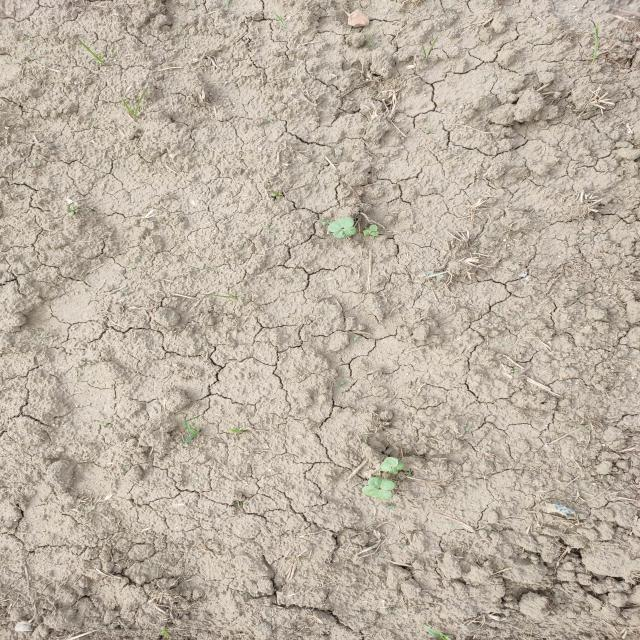seedling_s2: (362, 485, 394, 500), (328, 217, 354, 232), (368, 477, 395, 490), (333, 226, 357, 239), (380, 457, 398, 472), (389, 462, 404, 474), (369, 225, 379, 236), (363, 229, 370, 236)
